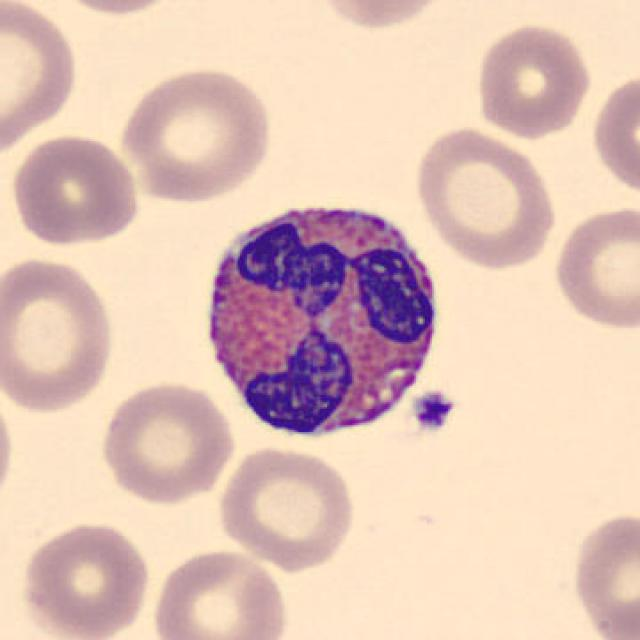Eosinophil: (190, 183, 452, 455)
Platelets: (409, 388, 457, 435)
RBC: (116, 62, 276, 206), (409, 124, 562, 272), (0, 252, 119, 416), (213, 441, 359, 573), (96, 376, 238, 506), (14, 518, 153, 640), (7, 130, 142, 248), (471, 19, 594, 141), (150, 545, 292, 640), (0, 0, 82, 160), (550, 201, 638, 333), (567, 508, 638, 638), (588, 65, 638, 205), (309, 0, 455, 33), (41, 0, 192, 18), (0, 383, 18, 520)
